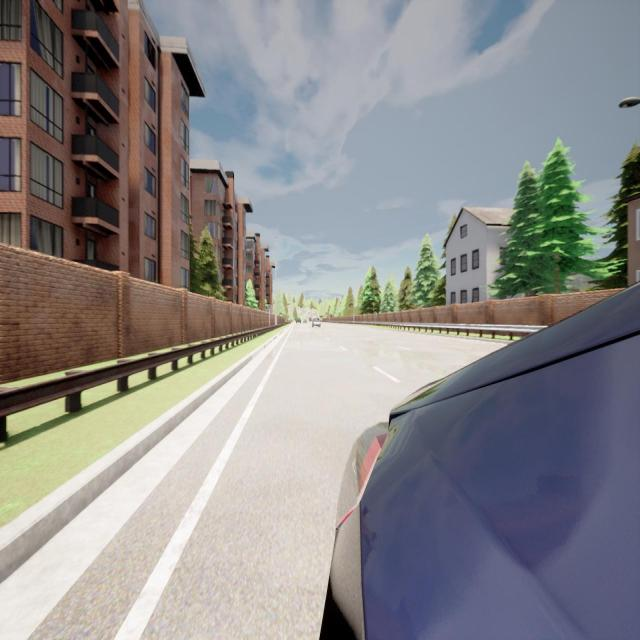Vehicle: (317, 286, 640, 640), (312, 317, 321, 328), (296, 318, 302, 324), (303, 319, 307, 323), (309, 317, 312, 322)
